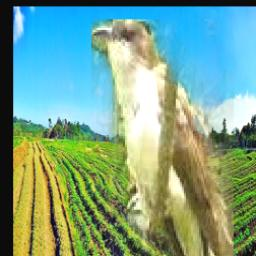Cuckoo: (91, 20, 234, 256)
